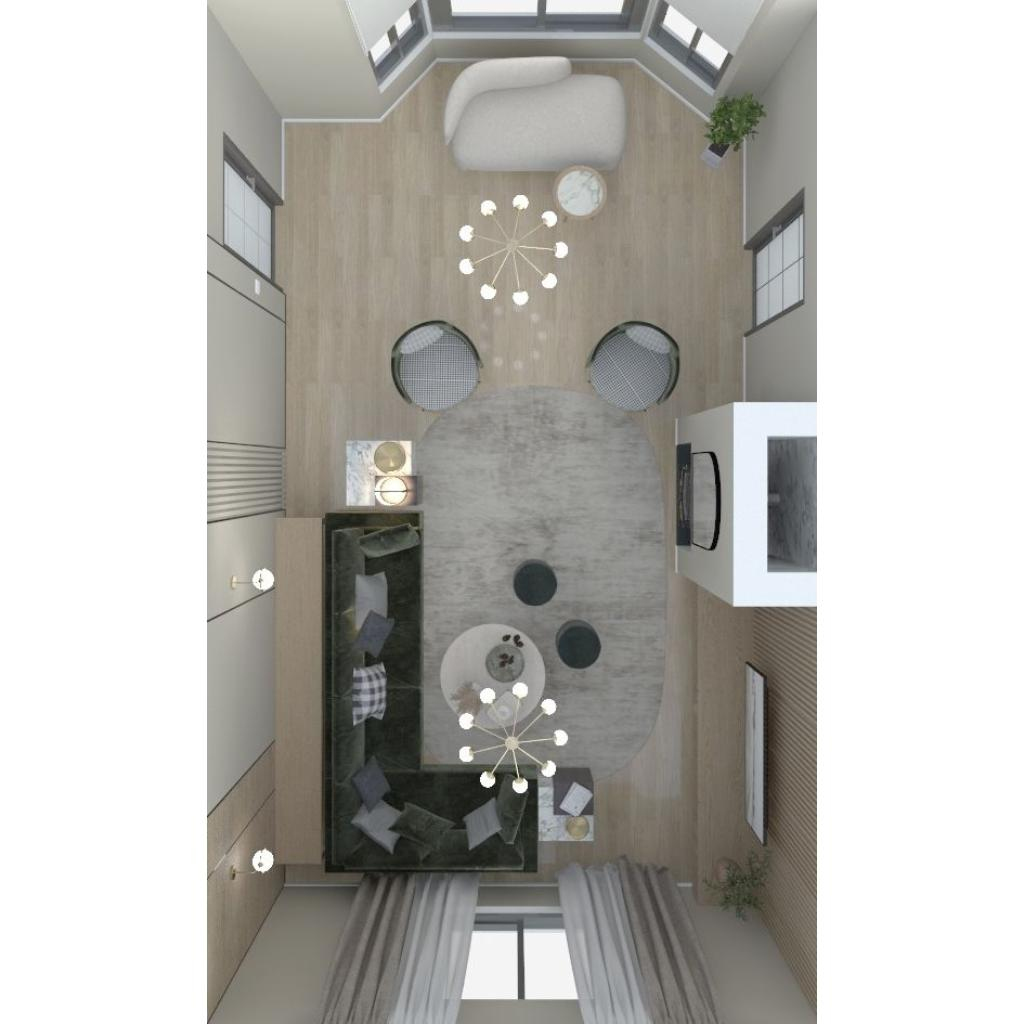TV stand: (694, 615, 810, 855)
chair: (388, 314, 484, 412), (585, 320, 677, 410)
chair-bed: (444, 54, 626, 166)
coffee table: (438, 621, 542, 725)
fireplace: (680, 402, 812, 604)
floor plant: (710, 866, 764, 914), (698, 125, 744, 169)
ottoman: (554, 618, 602, 668), (512, 560, 558, 606)
rug: (406, 389, 666, 785)
side table: (278, 520, 320, 870), (347, 440, 415, 506), (542, 771, 596, 841), (558, 172, 606, 216)
sofa: (324, 513, 420, 773), (326, 777, 536, 869)
window: (330, 998, 716, 1018), (431, 2, 655, 16), (662, 2, 762, 16), (346, 2, 426, 18)
